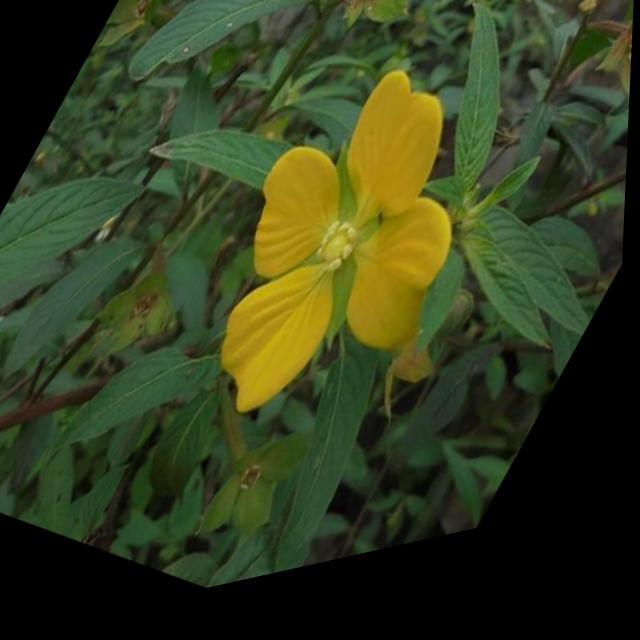Flower: (154, 19, 543, 504)
